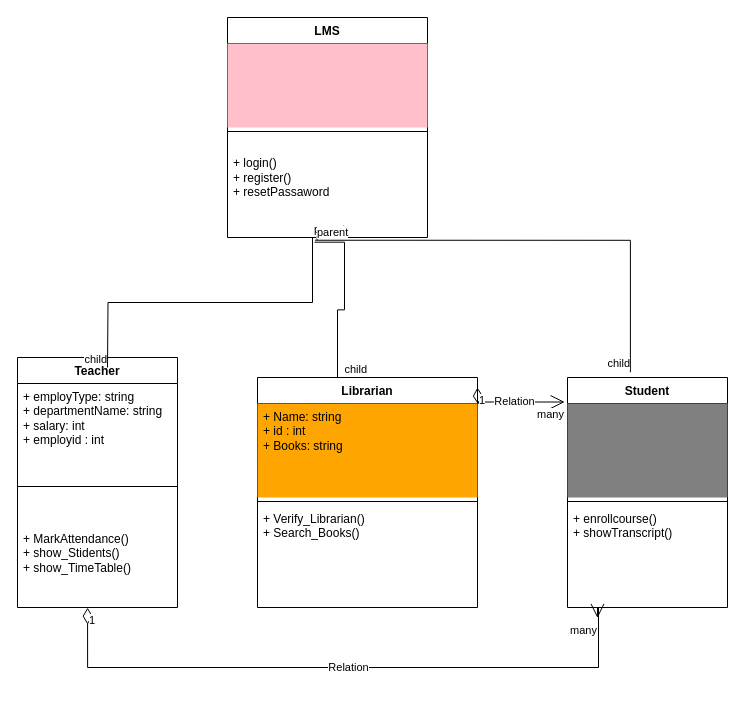
The diagram is 745 pixels wide and 702 high, and some of its shapes have lost their labels. The shapes that lost their labels are listed below. From the top down, each one's centre as x and y in pixels, then its label:
At point (327, 85): "+ username : string + usertype: string + password: string".
At point (647, 450): "+ enrollment: string + transcript: string + time table: string + rollno: int".
